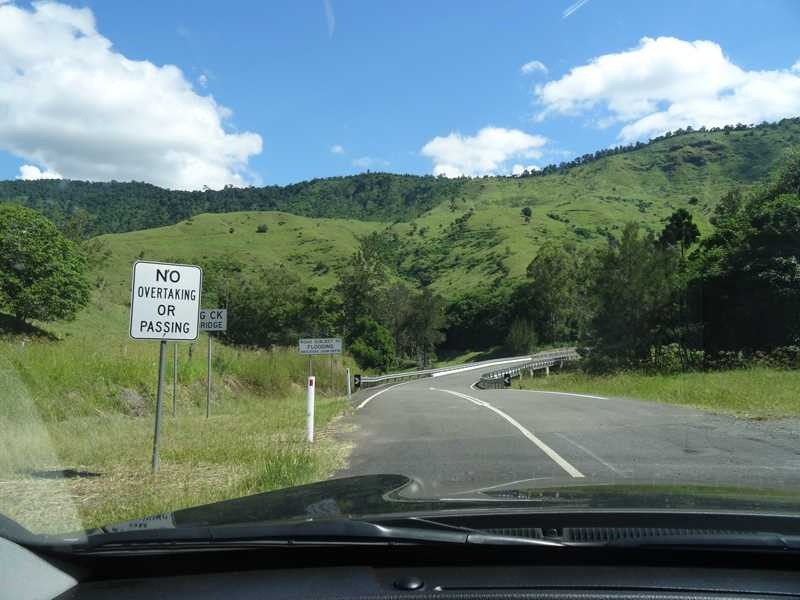text: (136, 286, 151, 303), (152, 286, 167, 303), (168, 286, 183, 303), (184, 286, 199, 303), (153, 269, 168, 285), (169, 269, 184, 285), (151, 304, 166, 318), (167, 304, 182, 318), (134, 321, 149, 335), (150, 321, 165, 335), (166, 321, 181, 335), (182, 321, 197, 335), (208, 310, 223, 321), (195, 311, 210, 321), (197, 321, 212, 330), (213, 321, 228, 330), (305, 344, 320, 351), (321, 344, 336, 351), (298, 339, 313, 344), (314, 339, 329, 344), (330, 339, 345, 344), (296, 351, 311, 354), (312, 351, 327, 354), (328, 351, 343, 354)
